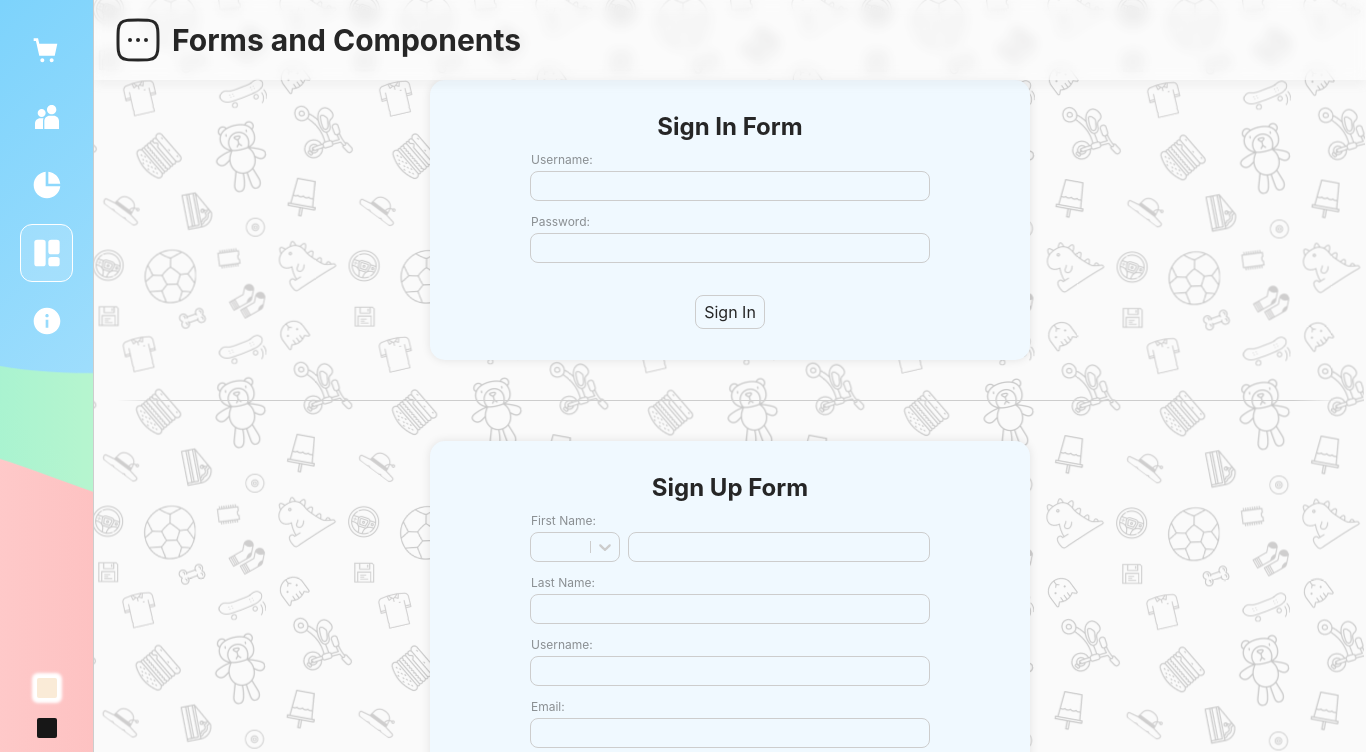
Test case: SignInForm › displays an error message for invalid credentials
The width and height of the screenshot is (1366, 752).
Click the button with test id "signInSubmitButton".
click(730, 312)  # box x1=695 y1=295 x2=765 y2=329
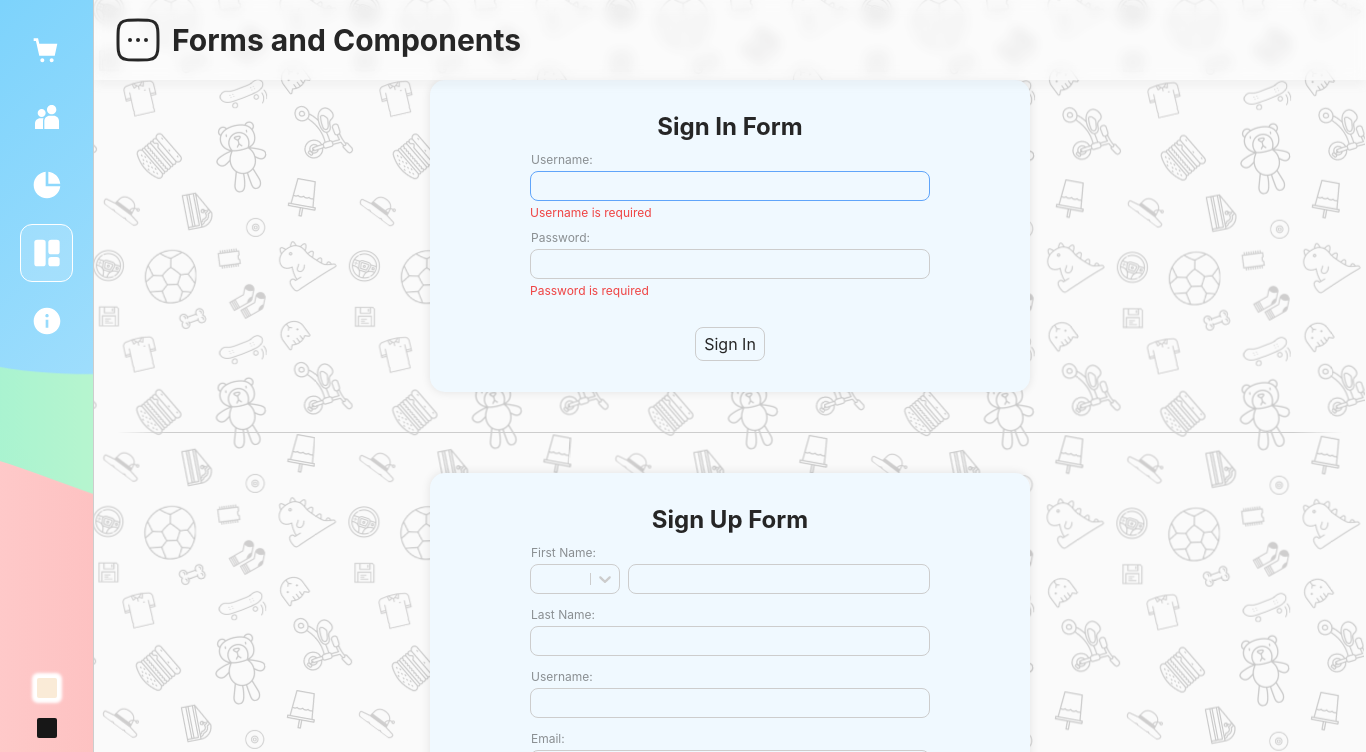
Expected: the text "Username is required" is shown, x1=530 y1=205 x2=652 y2=220
Expected: the text "Password is required" is shown, x1=530 y1=283 x2=649 y2=298
